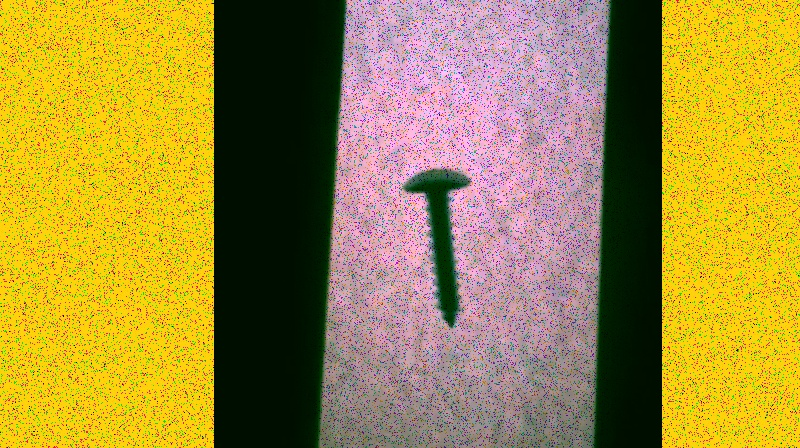S003: (400, 163, 478, 331)
